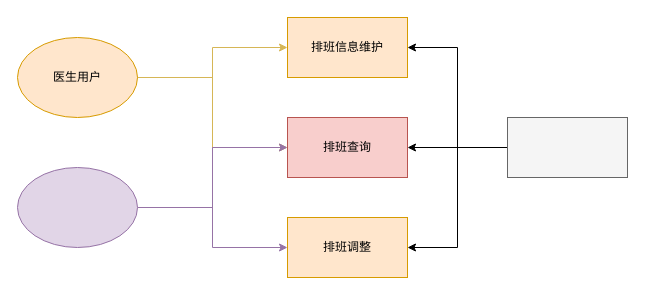
The diagram is 645 pixels wide and 295 high, and some of its shapes have lost their labels. The centre of each missing label's shape, as x and y in pixels:
医生排班模块: pixel 567 147
管理员用户: pixel 77 207
